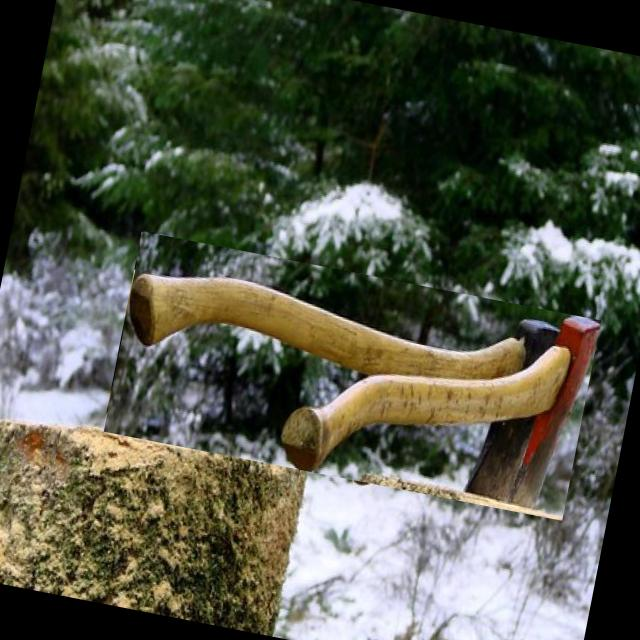Axe: (129, 274, 600, 508), (109, 283, 426, 475)
